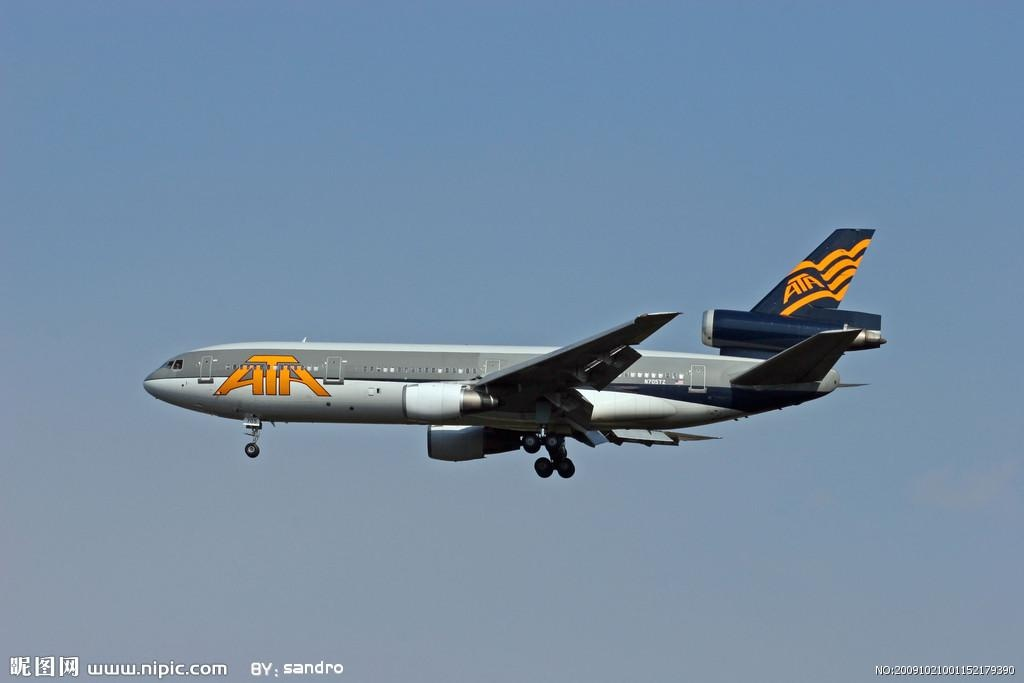airplane: (143, 220, 895, 485)
